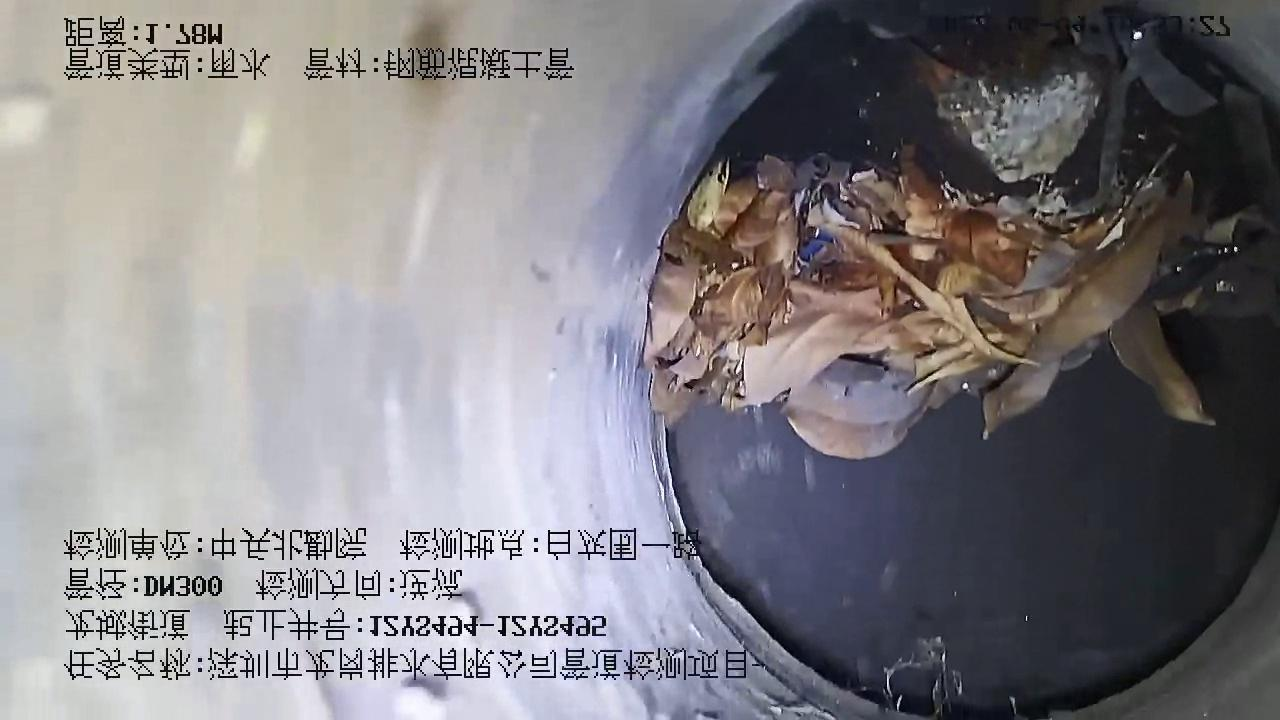CJ: (644, 8, 1279, 458)
CKTJ: (645, 391, 1278, 720)
